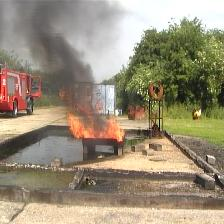fire: (67, 113, 125, 142)
